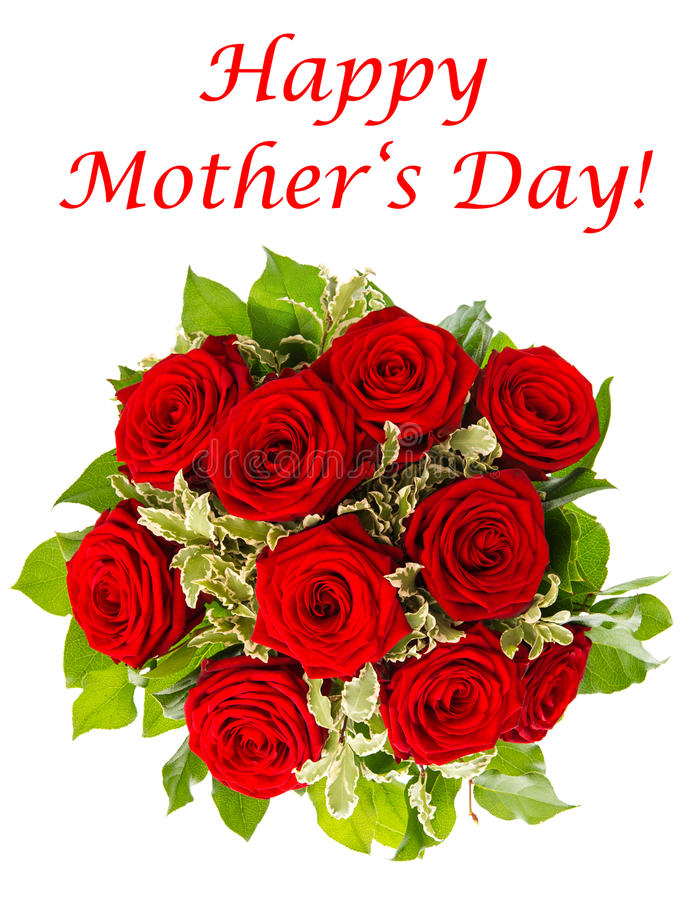RedRose: (253, 512, 406, 669), (326, 293, 464, 449), (414, 474, 552, 630), (68, 501, 200, 657), (185, 649, 318, 802), (469, 336, 606, 482), (226, 376, 354, 529), (108, 334, 243, 476), (379, 629, 507, 775), (486, 609, 606, 750)
